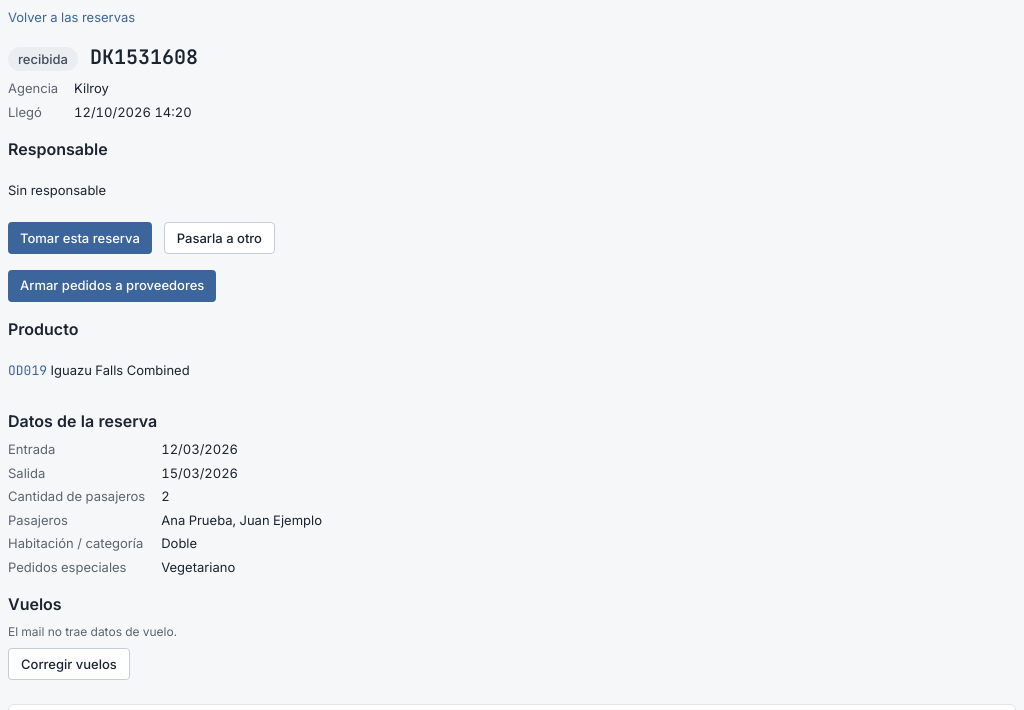
it: M3-06 fila 4 — Tomar esta reserva › si falla: 'No se pudo guardar: <motivo>' con 'Reintentar', que vuelve a mandar lo mismo
The width and height of the screenshot is (1024, 710).
Step 1. Click the button "Tomar esta reserva" → x=80, y=238, box [8,222,152,254]
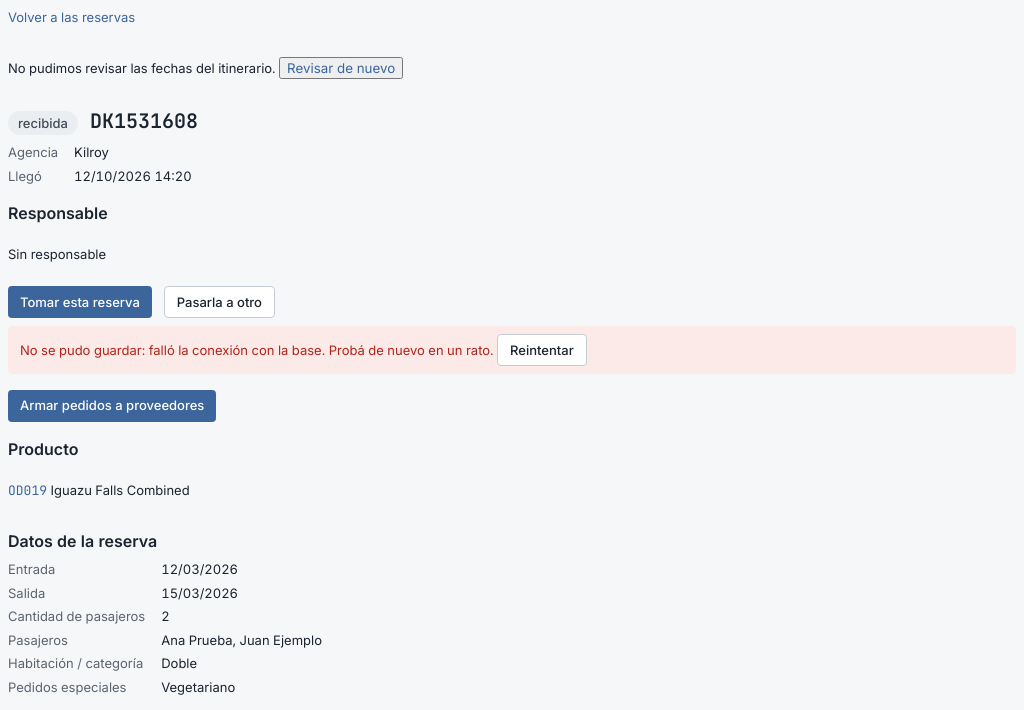
Step 2. Click the button "Reintentar" → x=542, y=350, box [497,334,587,366]
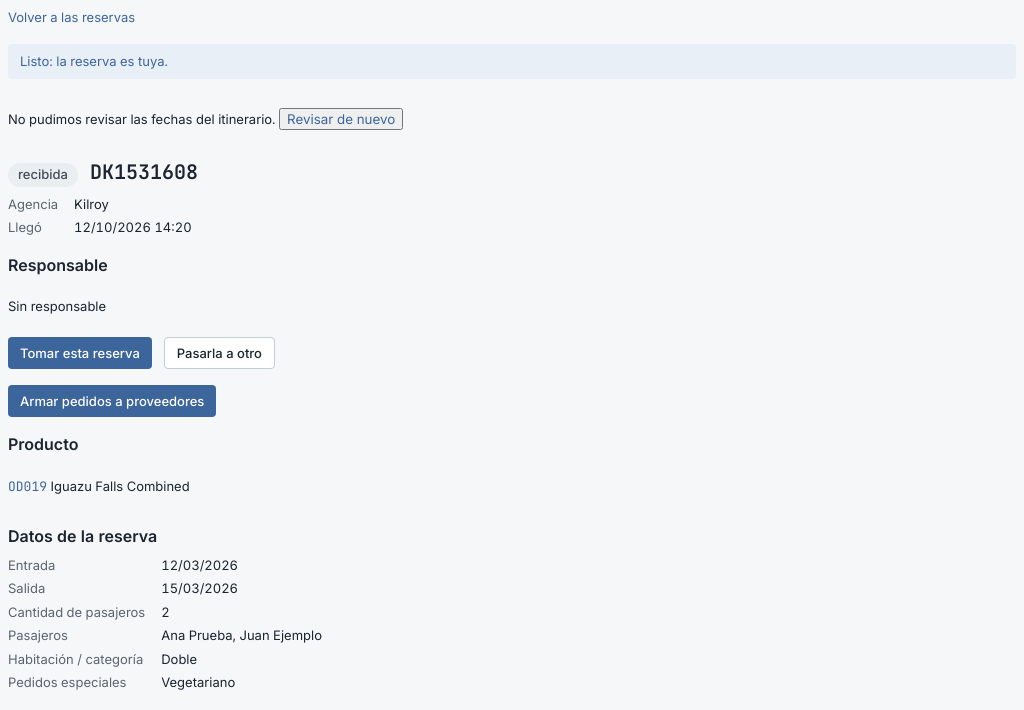
Result: the text "Listo: la reserva es tuya." is shown at [20,52,168,68]
